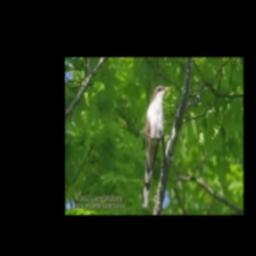Cuckoo: (142, 86, 168, 208)
